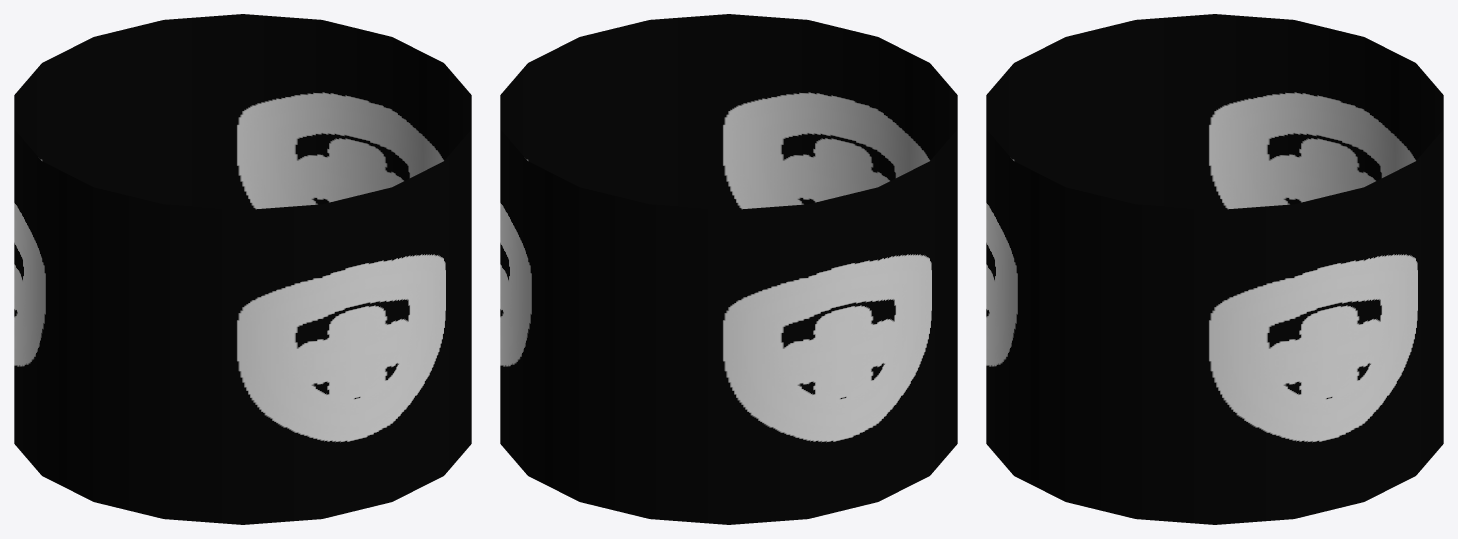
The model's file is hudun1.FBX.
The picture shows the model from 3 angles, left to right: view 1: azimuth 30°, elevation 25°; view 2: azimuth 150°, elevation 25°; view 3: azimuth 270°, elevation 25°; orthographic projection.
Visible parts, largest first — view 1: Cylinder001; view 2: Cylinder001; view 3: Cylinder001.
Boxes of the visible parts, box(x1,y1,x2,y2) form: Cylinder001: box(14, 14, 471, 524); Cylinder001: box(500, 14, 957, 524); Cylinder001: box(986, 14, 1443, 524).
Size of the model in its own units: 2.27 by 2.23 by 1.7.
